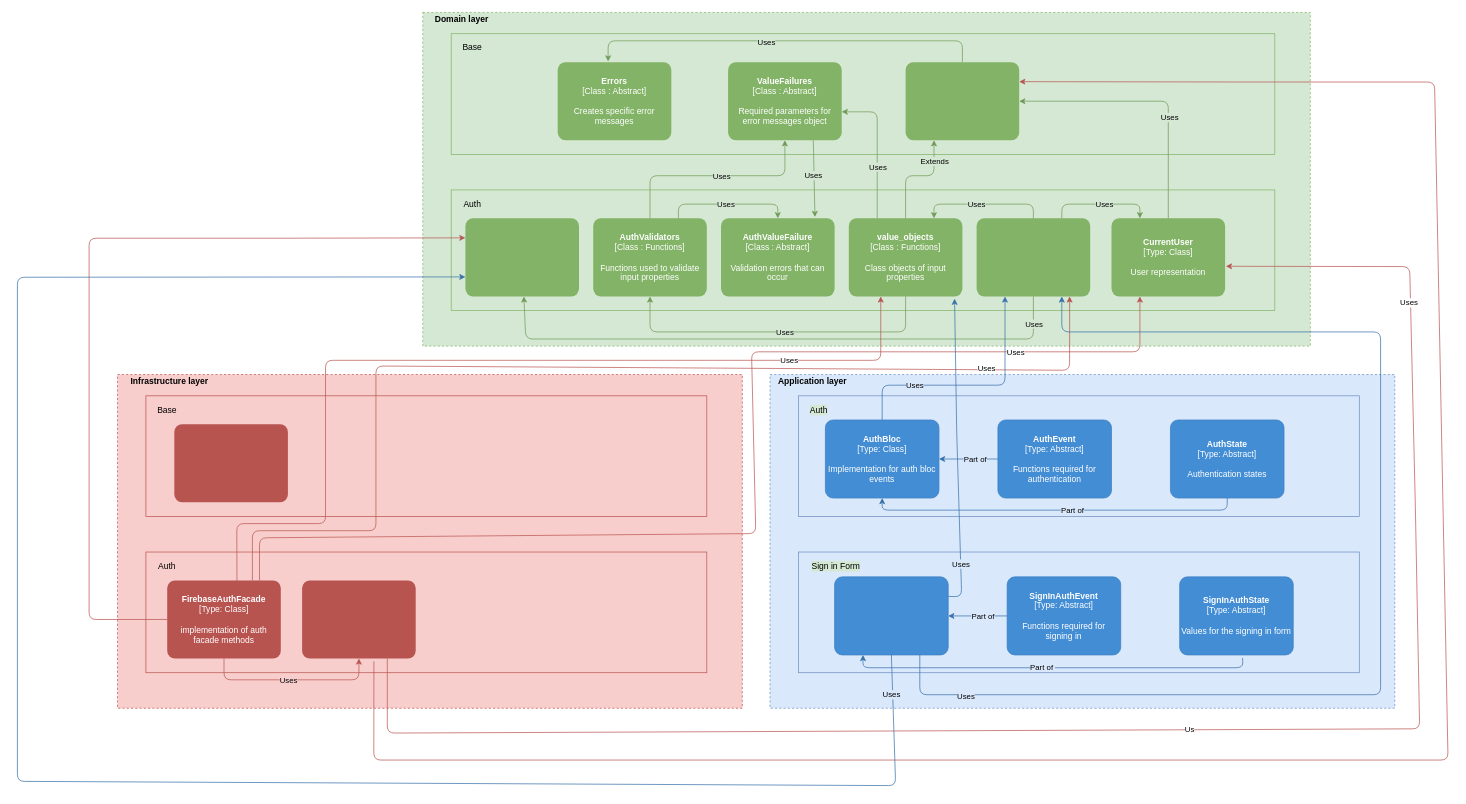
Image size: 1466x804. Some labels were removed from this diagram. The shapes that lost their labels are listed below. From the top down, each one's box as (x1, y1, x2, y2) in pixels, then its label:
(905, 62, 1019, 140): ValueObject [Class : Abstract] Base object representation
(465, 218, 579, 296): AuthErrorFailure [Class : Abstract] Errors that can occur during authentication
(976, 218, 1090, 296): IAuthFacade [Type: abstract] base implementation of auth functions
(174, 424, 288, 502): FirebaseInjectableModule [Class : Abstract] Lazy singleton firebase methods
(302, 580, 415, 658): FirebaseUserDomainX [Type: Extension] Extension of user to implement UniqueId
(834, 576, 948, 655): SignInAuthBloc [Type: Class] Implementation for sign in bloc events
